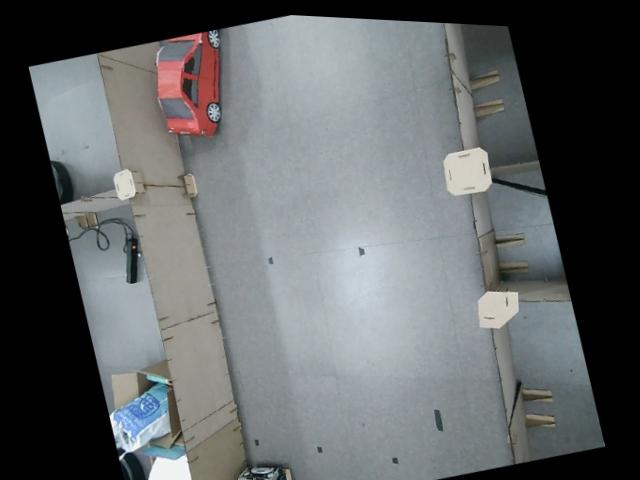car: (142, 25, 245, 149), (225, 455, 295, 480)
